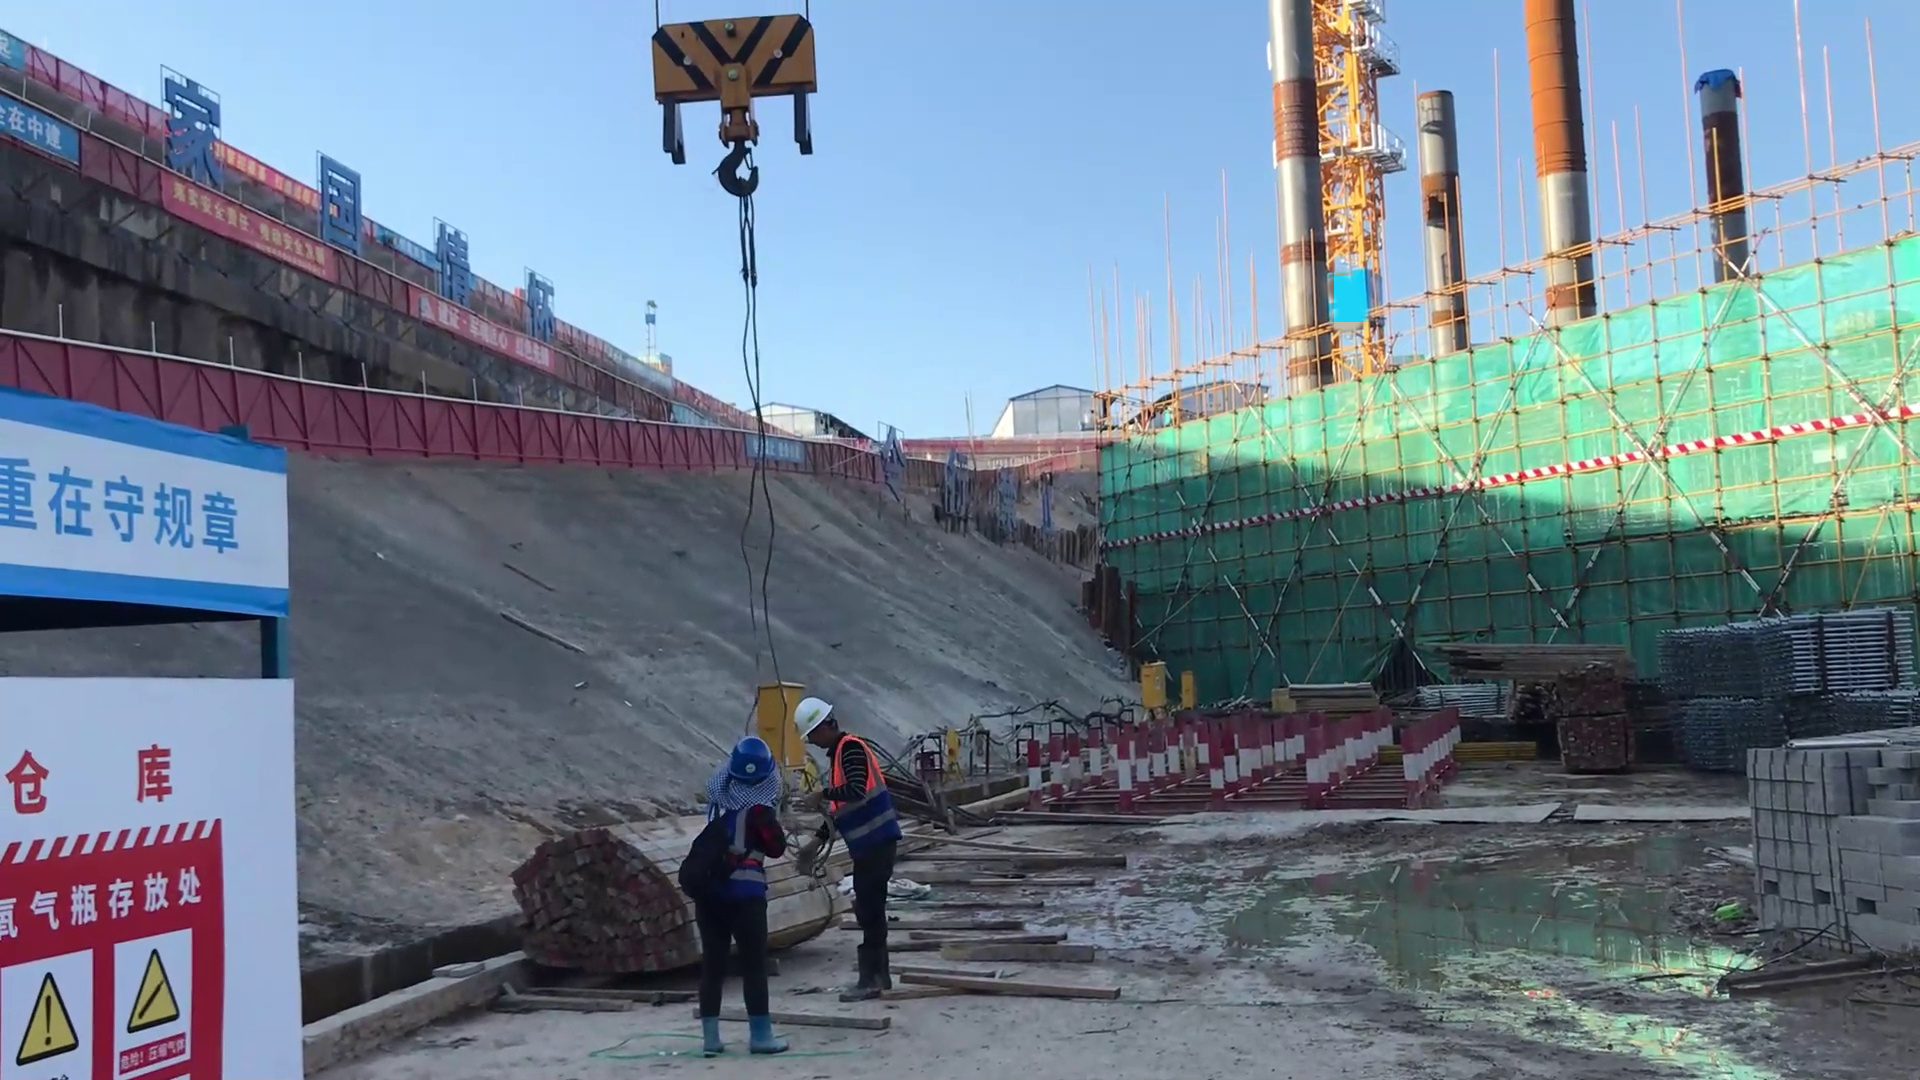brick: (1736, 718, 1920, 976)
ebox: (752, 674, 814, 785), (1138, 653, 1173, 713), (1180, 665, 1198, 712)
fence: (277, 367, 667, 477), (667, 422, 858, 471)
helmet: (724, 739, 778, 795), (792, 698, 844, 749)
hook: (662, 15, 811, 165)
person: (787, 690, 919, 1001), (683, 729, 786, 1065)
scaffold: (1654, 612, 1896, 704)
slogan: (15, 848, 229, 1080), (1, 455, 270, 609)
vest: (821, 741, 874, 805)
wood: (475, 820, 688, 1000), (1432, 620, 1603, 676)
